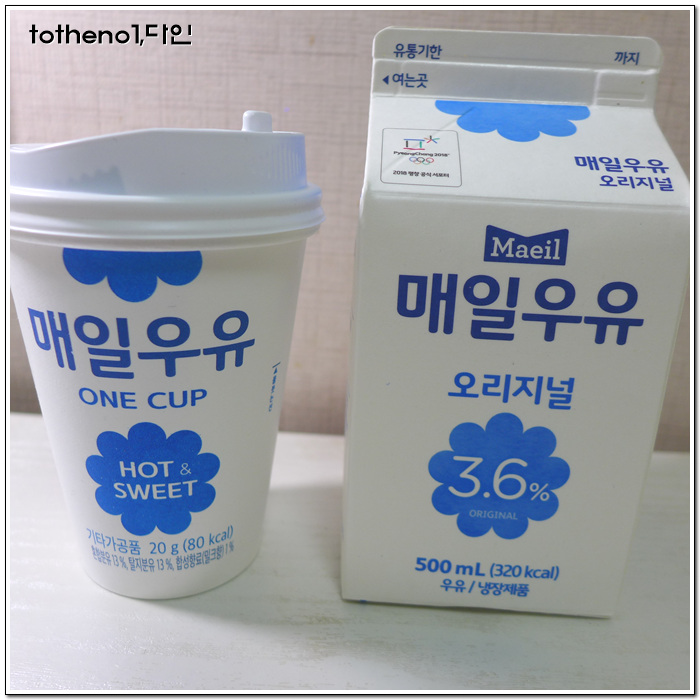milk: (341, 28, 690, 620), (8, 107, 321, 599)
